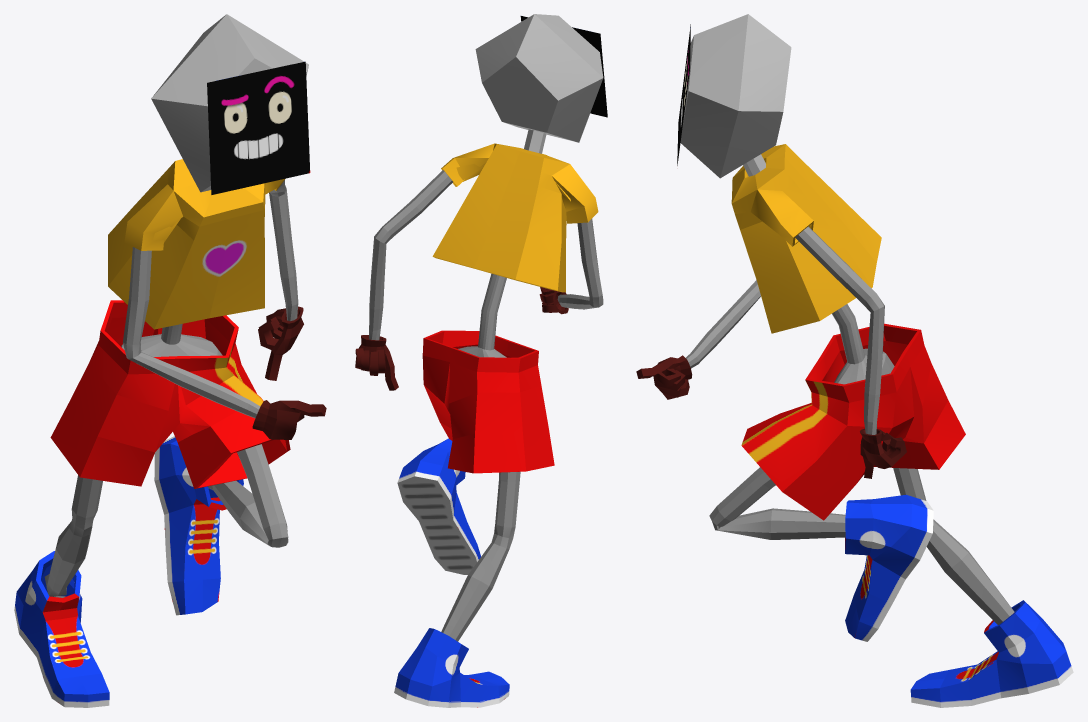
File: RobRun.glb
3 views of the same model, side by side, from view 1: azimuth 30°, elevation 25°; view 2: azimuth 150°, elevation 25°; view 3: azimuth 270°, elevation 25° (orthographic). The views are drawn at different scales.
Parts seen in each view (by area): view 1: export_mesh; view 2: export_mesh; view 3: export_mesh.
Part boxes in pixels (x1,y1,x2,y2): export_mesh: [14, 14, 326, 707]; export_mesh: [355, 14, 607, 707]; export_mesh: [636, 14, 1073, 707].
Size of the model in its own units: 0.5809 by 1.73 by 0.9783.
1 material, 1 textured.
